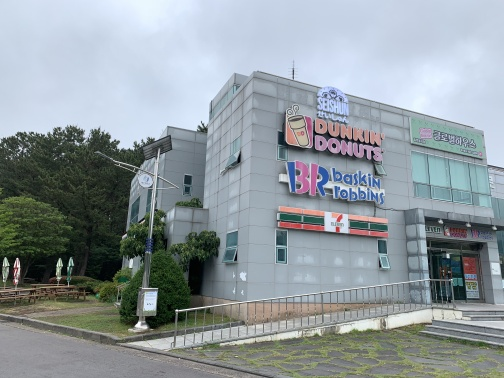Global House: (119, 69, 504, 338)
